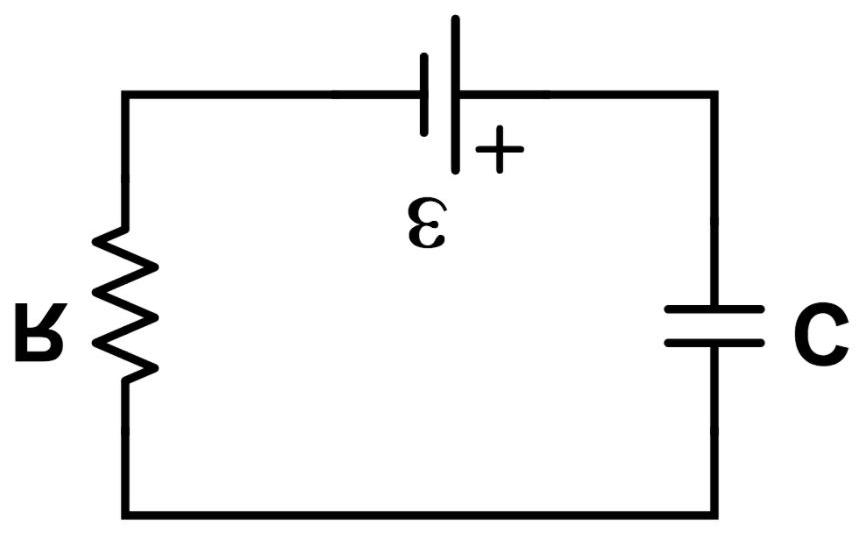Capacitor: (627, 266, 781, 391)
